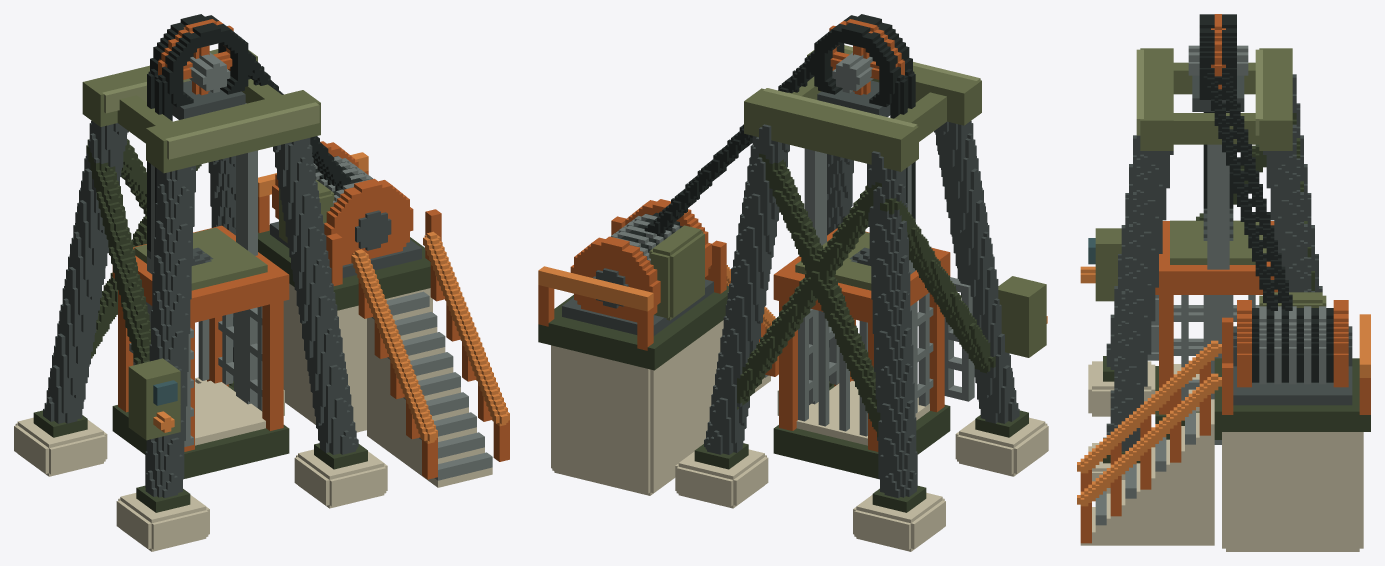
The model's file is mine_elevator.glb.
The picture shows the model from 3 angles, left to right: view 1: azimuth 30°, elevation 25°; view 2: azimuth 150°, elevation 25°; view 3: azimuth 270°, elevation 25°; orthographic projection. The views are drawn at different scales.
Visible parts, largest first — view 1: mine_elevator; view 2: mine_elevator; view 3: mine_elevator.
Part boxes in pixels (left/top/right/bottom): mine_elevator: left=14, top=14, right=509, bottom=551; mine_elevator: left=538, top=14, right=1048, bottom=551; mine_elevator: left=1077, top=14, right=1370, bottom=551.
Size of the model in its own units: 4.77 by 5.67 by 3.55.
